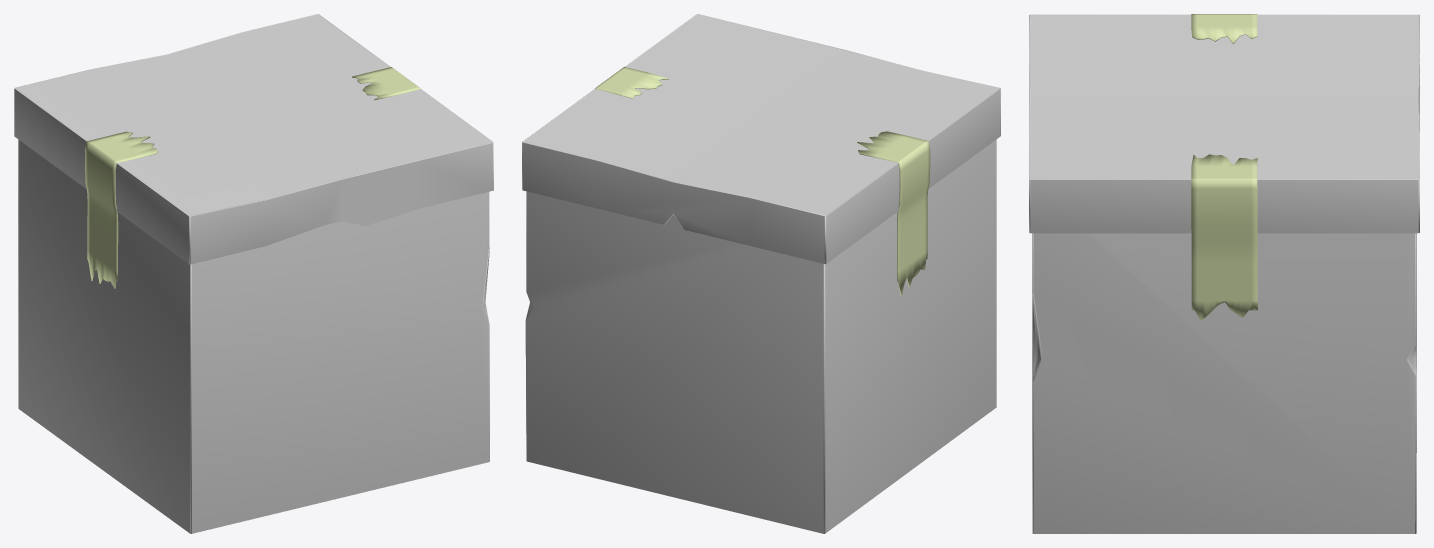
The model's file is bedside_table_tier1 (5).fbx.
3 views of the same model, side by side, from view 1: azimuth 30°, elevation 25°; view 2: azimuth 150°, elevation 25°; view 3: azimuth 270°, elevation 25° (orthographic). The views are drawn at different scales.
Visible parts, largest first — view 1: Cube.001; view 2: Cube.001; view 3: Cube.001.
Part boxes in pixels (bbox=[...]): Cube.001: bbox=[14, 14, 493, 533]; Cube.001: bbox=[522, 14, 1000, 533]; Cube.001: bbox=[1029, 14, 1419, 533].
Size of the model in its own units: 0.8669 by 0.862 by 0.8574.
